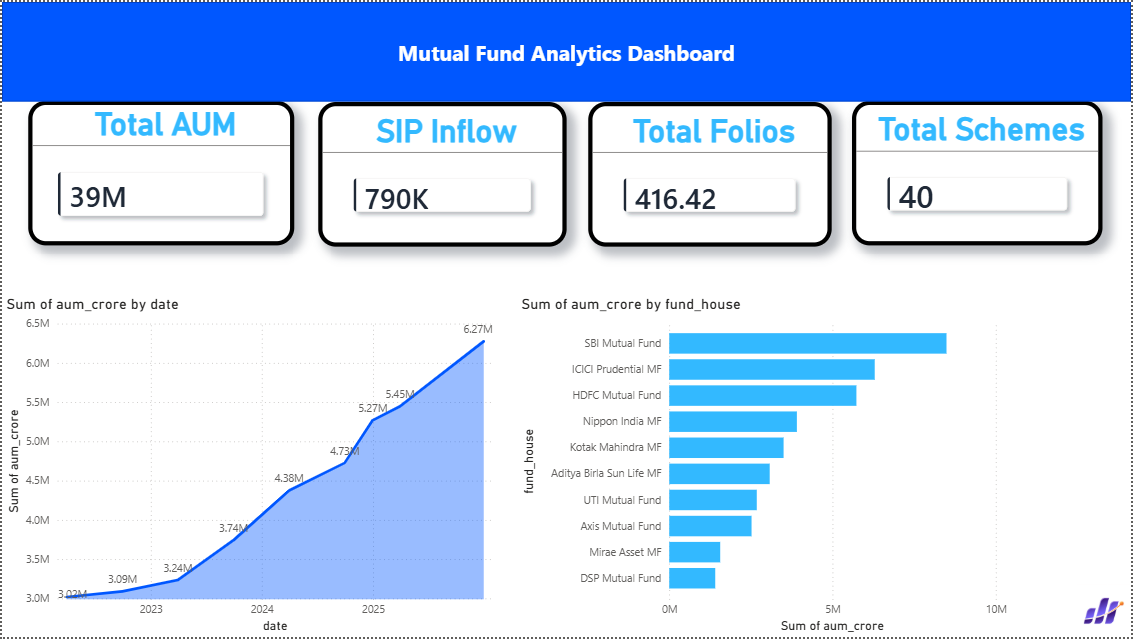

The dashboard page shown, as its layout file describes it:
{"tool":"powerbi","page":{"name":"Industry Overview","canvas":[1280,720],"ordinal":0},"visuals":[{"type":"cardVisual","title":"Total  AUM","fields":{"Data":["Sum(cleaned_aum_by_fund_house.aum_crore)"]},"box":[30,111.4,301.4,164.3],"z":0},{"type":"cardVisual","title":"SIP Inflow","fields":{"Data":["Sum(cleaned_monthly_sip_inflows.sip_inflow_crore)"]},"box":[358.6,112.9,281.4,164.3],"z":1000},{"type":"cardVisual","title":"Total Folios","fields":{"Data":["Sum(cleaned_industry_folio_count.total_folios_crore)"]},"box":[664.3,112.9,275.7,164.3],"z":2000},{"type":"cardVisual","title":"Total Schemes","fields":{"Data":["Count(cleaned_fund_master.amfi_code)"]},"box":[964.3,111.4,284.3,164.3],"z":3000},{"type":"lineChart","fields":{"Y":["Sum(cleaned_aum_by_fund_house.aum_crore)"],"Category":["cleaned_aum_by_fund_house.date"]},"box":[0,331.4,564.3,388.6],"z":4000},{"type":"barChart","fields":{"Y":["Sum(cleaned_aum_by_fund_house.aum_crore)"],"Category":["cleaned_aum_by_fund_house.fund_house"]},"box":[584.3,331.4,560,388.6],"z":5000},{"type":"image","box":[1217.1,660,62.9,60],"z":5001},{"type":"shape","box":[0,0,1280,112.9],"z":5002}]}

Visuals, with their boxes in screenshot pixels (x1, y1, x2, y2), scaled from the page's 1280x720 canvas onto the 1133x640 screenshot:
"Total  AUM" cardVisual: [27,99,293,245]
"SIP Inflow" cardVisual: [317,100,566,246]
"Total Folios" cardVisual: [588,100,832,246]
"Total Schemes" cardVisual: [854,99,1105,245]
lineChart - Sum(cleaned_aum_by_fund_house.aum_crore) x cleaned_aum_by_fund_house.date: [0,295,499,639]
barChart - Sum(cleaned_aum_by_fund_house.aum_crore) x cleaned_aum_by_fund_house.fund_house: [517,295,1013,639]
image: [1077,587,1132,639]
shape: [0,0,1132,100]
